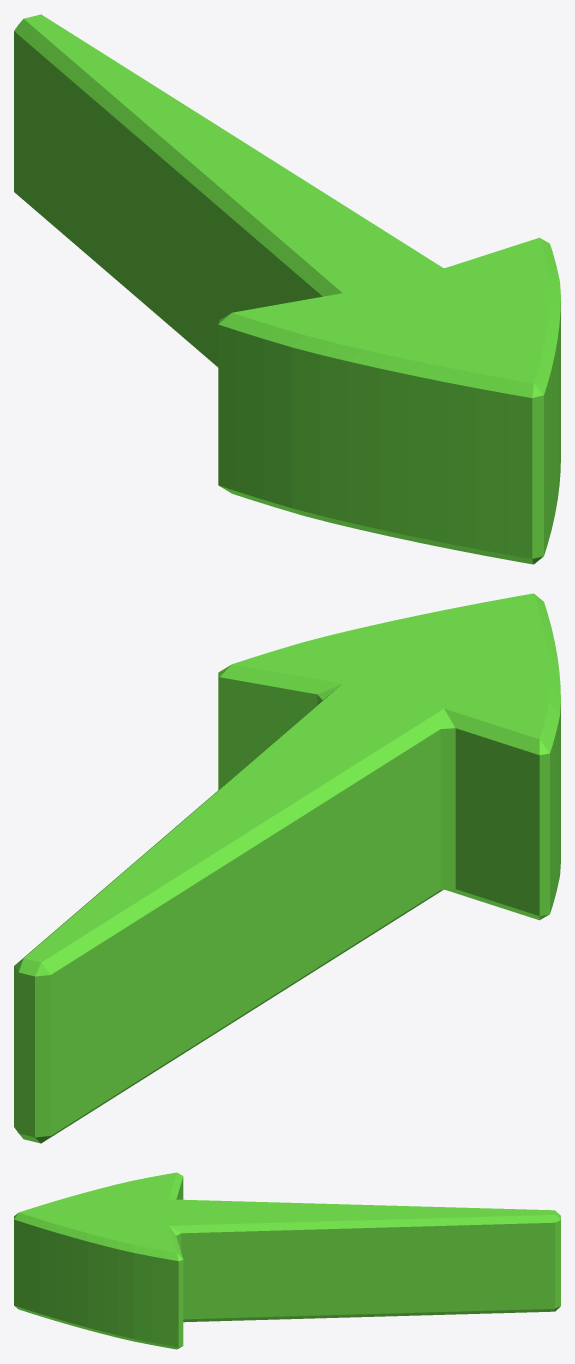
The model's file is arrow_straight.glb.
3 views of the same model, one above another, from view 1: azimuth 30°, elevation 25°; view 2: azimuth 150°, elevation 25°; view 3: azimuth 270°, elevation 25° (orthographic). The views are drawn at different scales.
Visible parts, largest first — view 1: ArrowStraight; view 2: ArrowStraight; view 3: ArrowStraight.
Part boxes in pixels (bbox=[...]): ArrowStraight: bbox=[14, 14, 560, 564]; ArrowStraight: bbox=[14, 593, 560, 1143]; ArrowStraight: bbox=[14, 1172, 560, 1349].
Bounding box in the file's own units: 0.0807 × 0.0421 × 0.2154.
